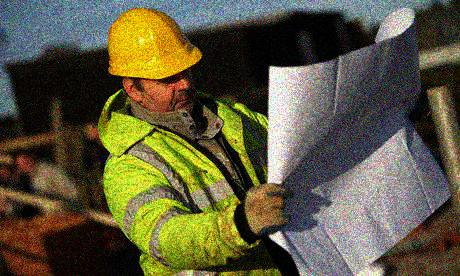helmet: (105, 5, 206, 114)
